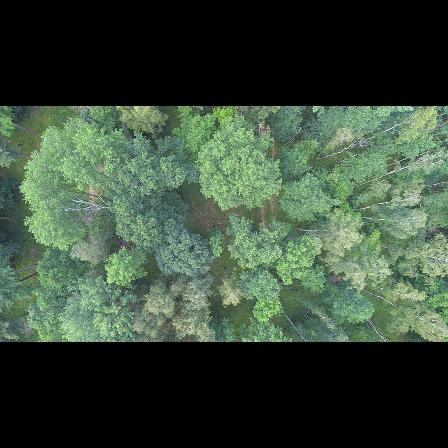Dead: (316, 137, 389, 161), (57, 193, 114, 223)
